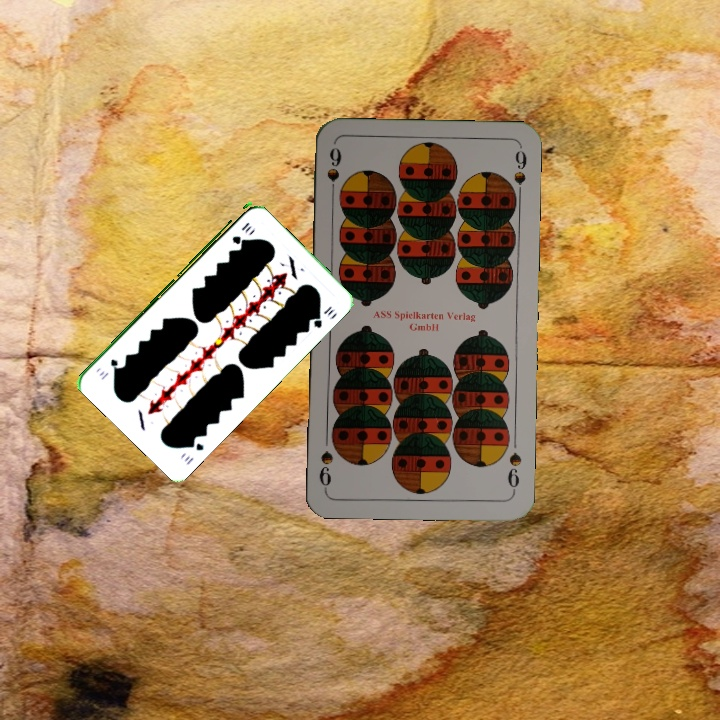G10: (180, 435, 206, 468), (228, 218, 254, 246)
S9: (323, 144, 344, 202), (503, 448, 524, 495)
